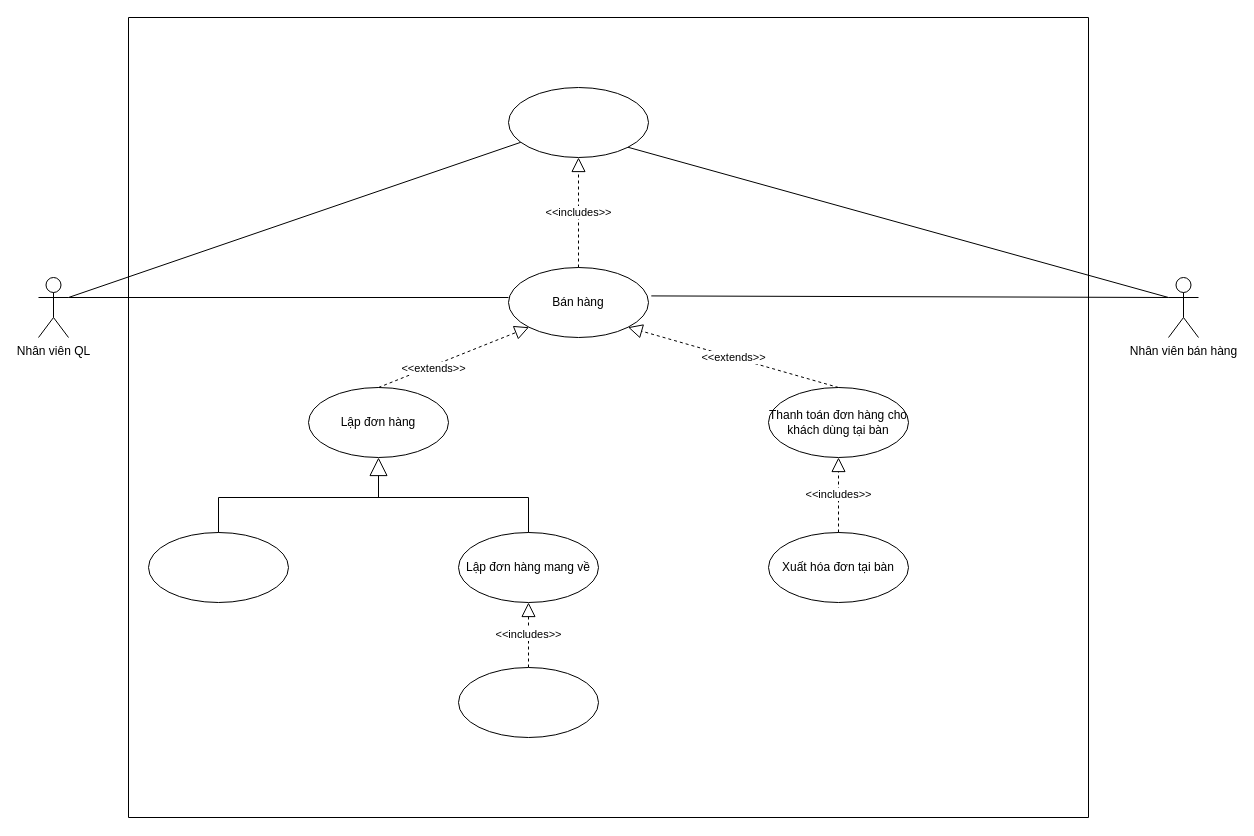
This 1254x836 diagram has some shape labels left out. The shapes that lost their labels are listed below. From the top down, each one's centre as x and y in pixels, then its label:
the point at 578,122: Đăng nhập
the point at 218,567: Lập đơn hàng tại bàn
the point at 528,702: Xuất hóa đơn mang về
